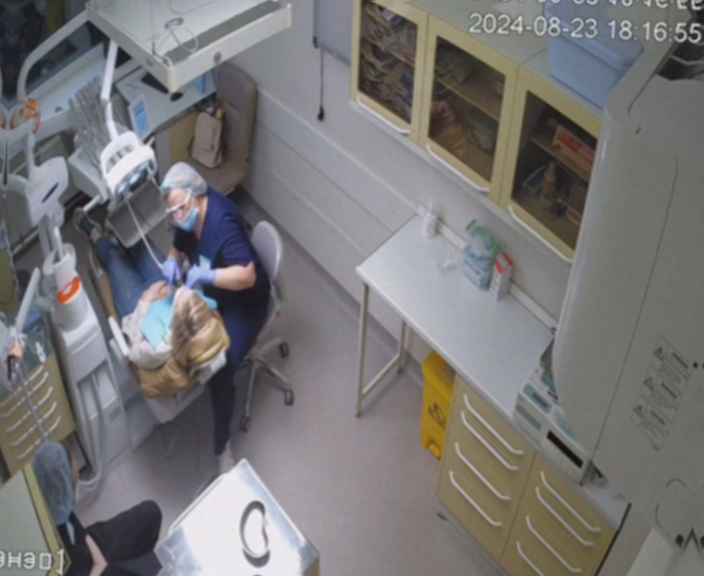Patient: (71, 213, 239, 411)
